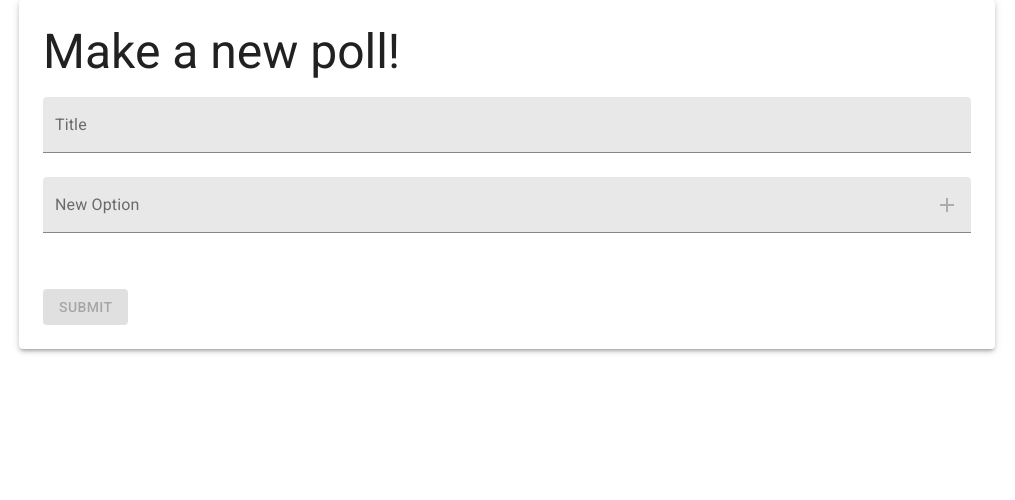
Test: NewPoll tests › If option is present › Options render correctly after add click
The width and height of the screenshot is (1015, 500).
Type "test" into the field labelled "Title". click: (507, 125)
box: [43,97,971,153]
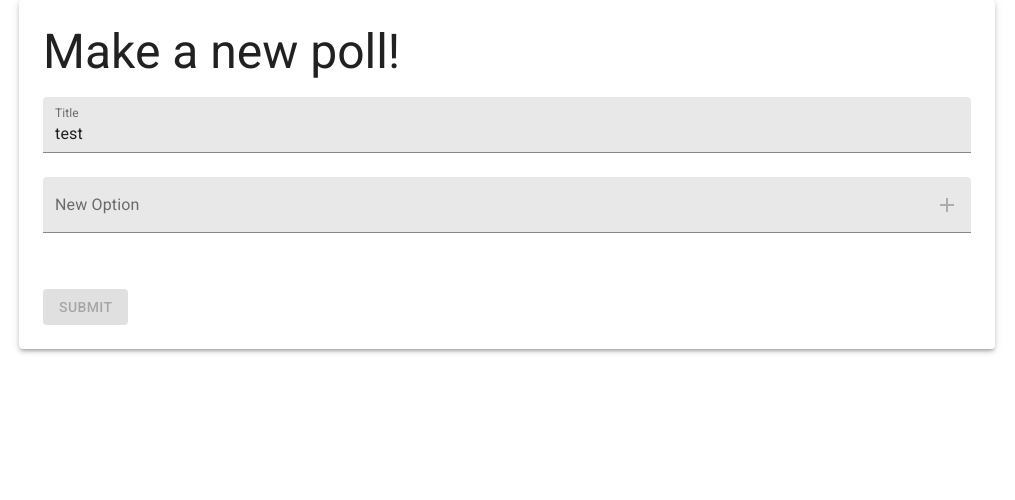
Type "test" into the field labelled "New Option". click: (479, 205)
box: [43,177,915,233]
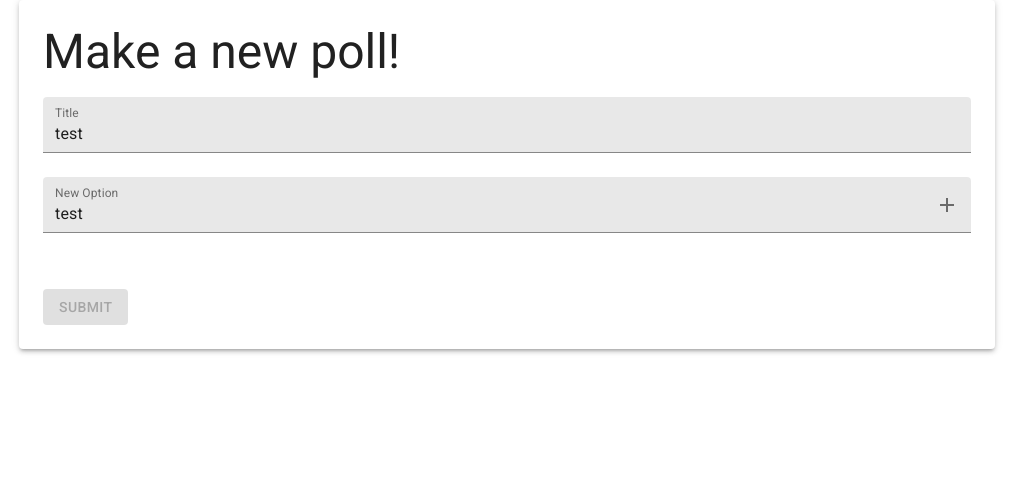
Click the button with test id "add-option-button". click: (947, 205)
box: [923,181,971,229]
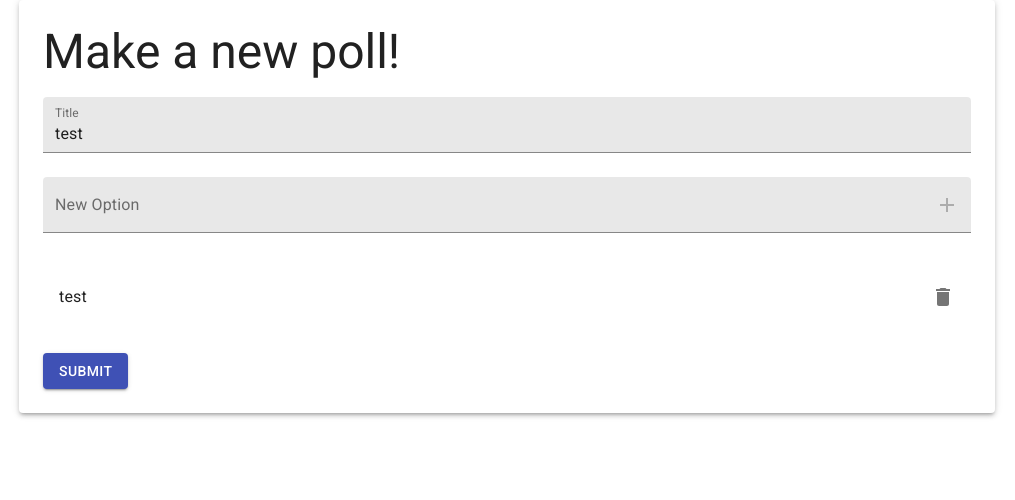
Type "toast" into the field labelled "New Option". click: (479, 205)
box: [43,177,915,233]
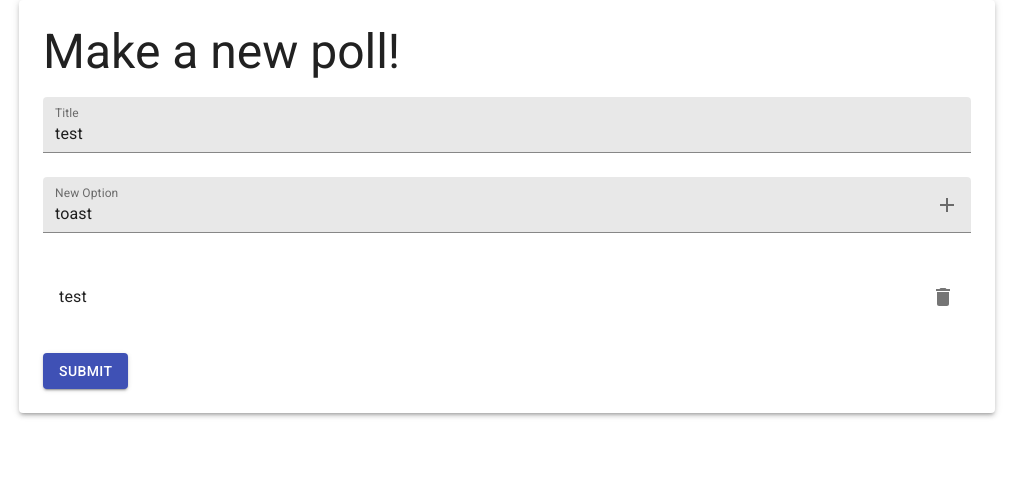
Click the button with test id "add-option-button". click: (947, 205)
box: [923,181,971,229]
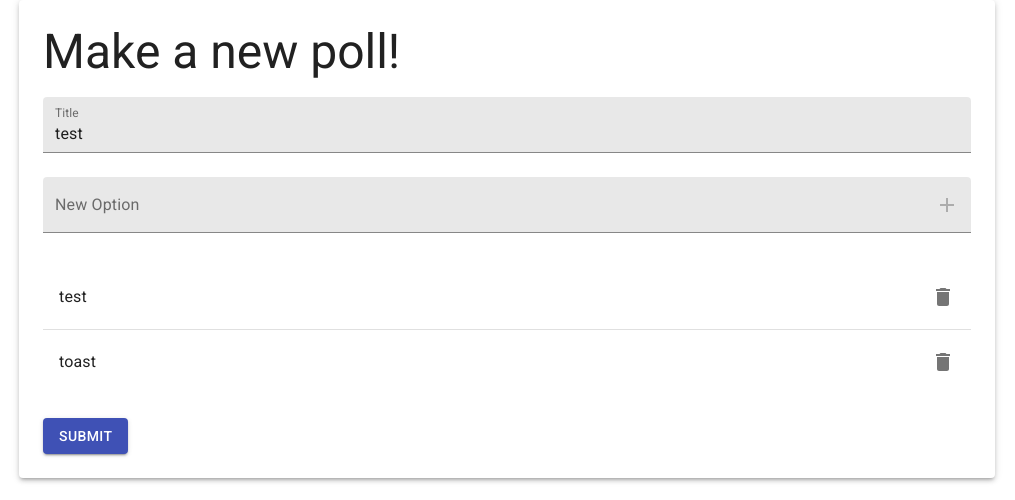
Expected: the text "test" is shown, [59,287,87,306]
Expected: the text "toast" is shown, [59,352,96,371]
